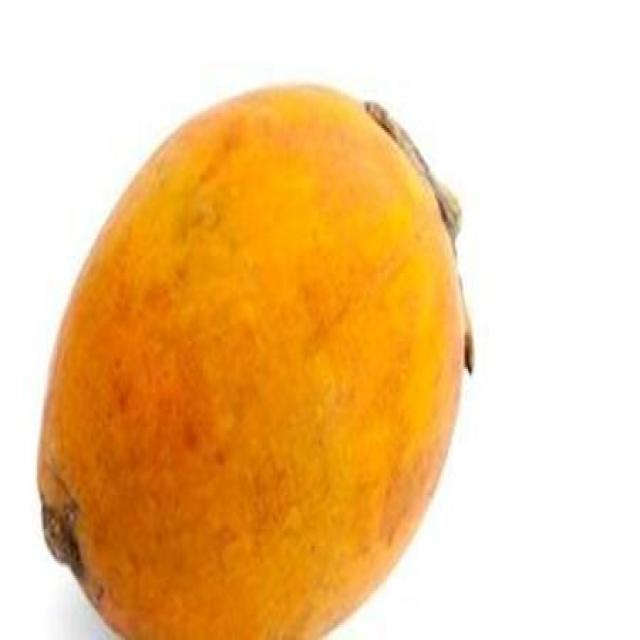good: (34, 83, 474, 638)
